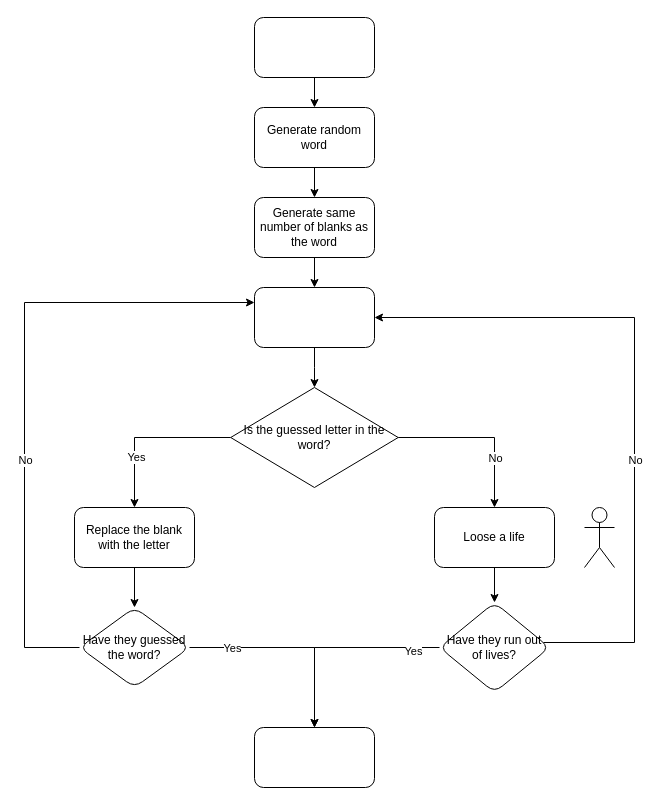
Some shapes in this 660 by 805 pixel diagram are drawn without their labels. The box of each missing label's shape, as (x1, y1, x2, y2) in pixels:
Ask the user to guess the letter: (254, 286, 374, 348)
GAME OVER: (254, 726, 374, 788)
Start: (254, 16, 374, 78)
